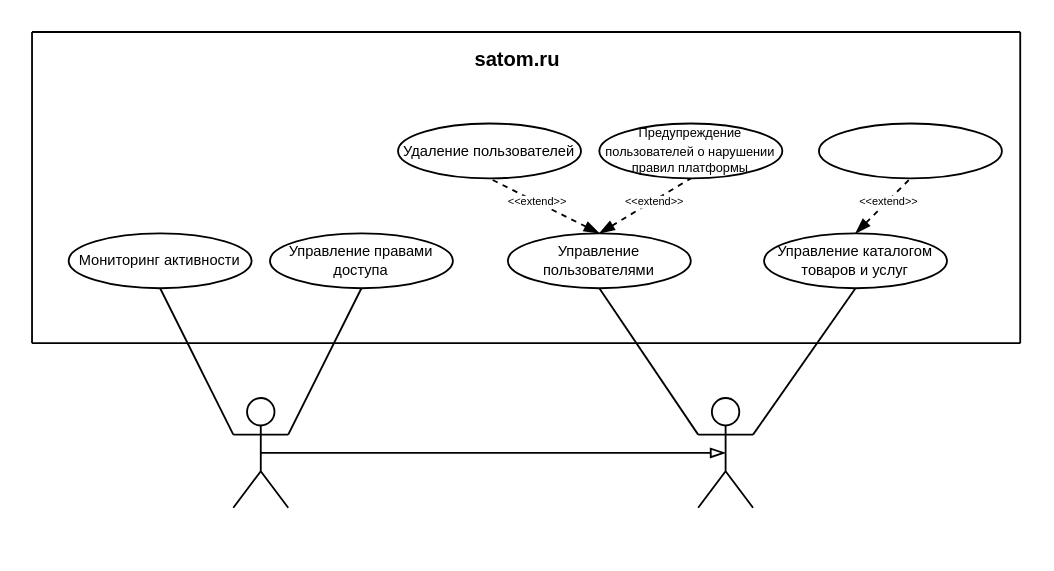
Some shapes in this 1054 by 571 pixel diagram are drawn without their labels. The centre of each missing label's shape, as x and y in pixels:
Администратор: (x=259, y=452)
Модератор: (x=724, y=452)
Удаление товаров и услуг: (x=909, y=150)
